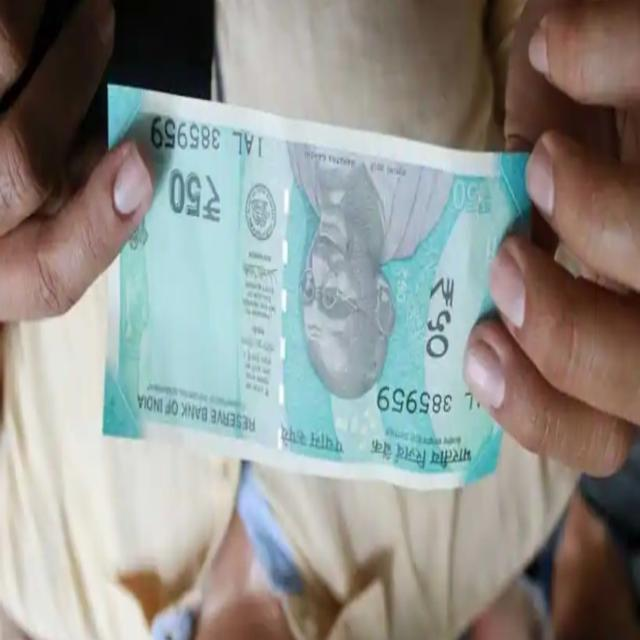50IndianRupees: (101, 78, 542, 490)
